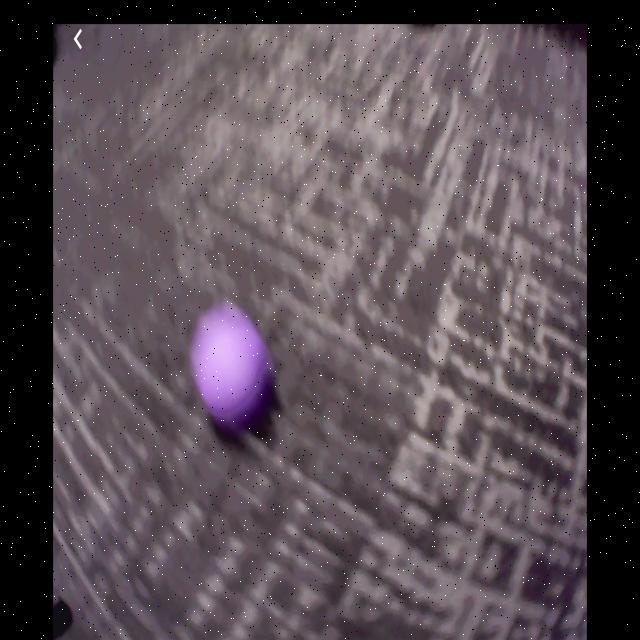ball: (190, 306, 267, 415)
